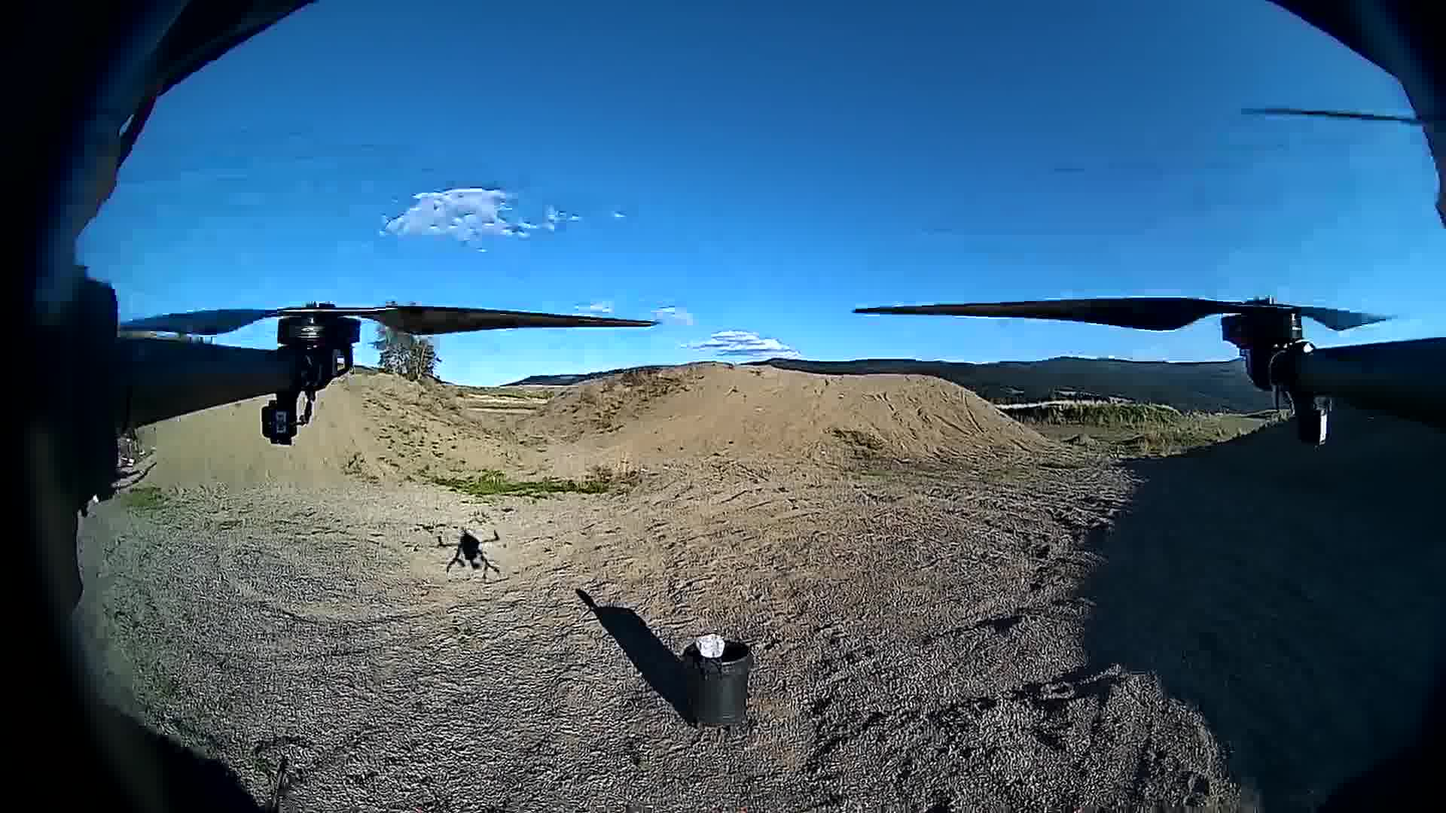Target: (693, 632, 725, 658)
